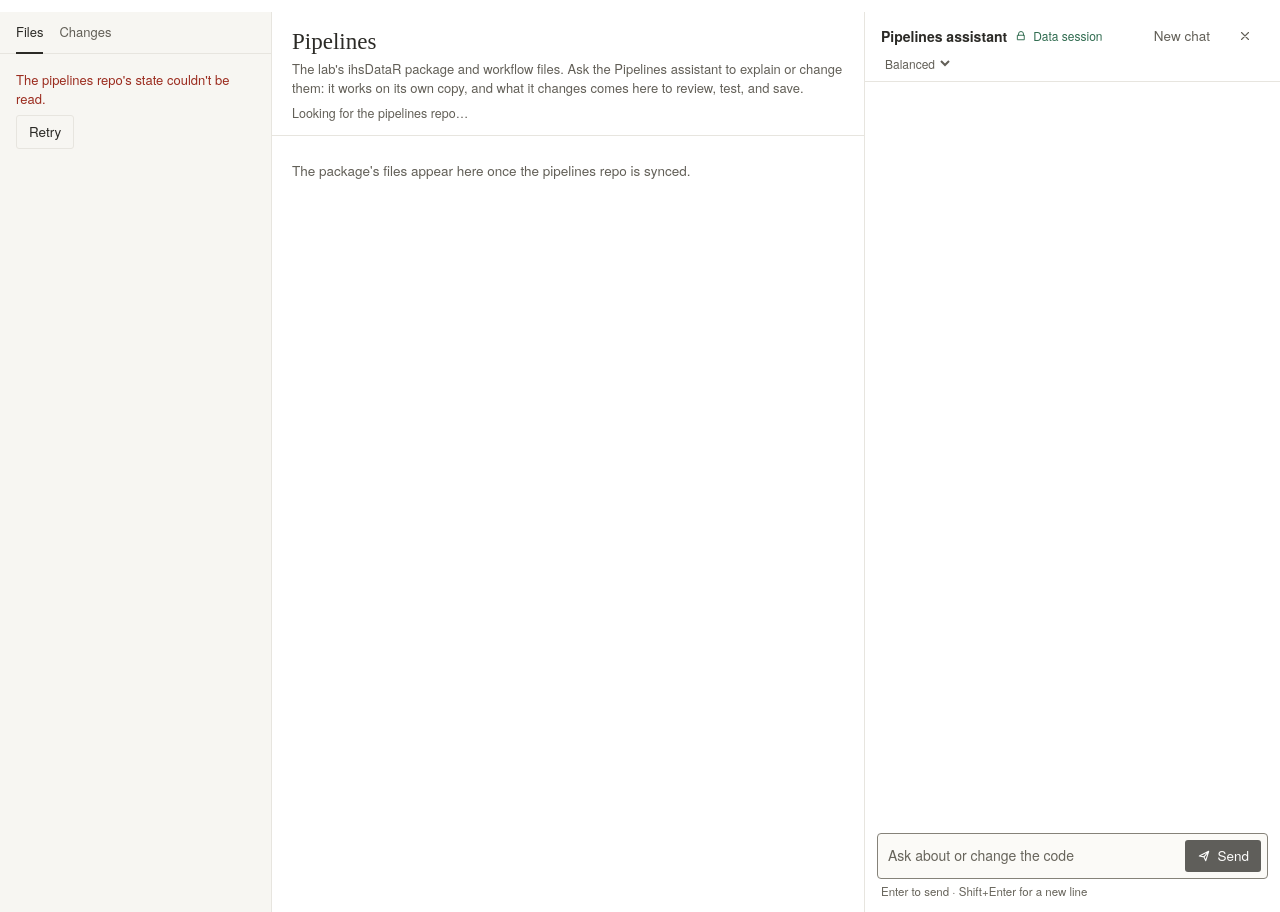
Scenario: says when the repo's state couldn't be read, with Retry, in the files and the changes
This screenshot has width=1280, height=912.
Expected: the text "The pipelines repo's state couldn't be read." is shown, [16,70,255,108]
Click the tab "Changes" at point(86, 33), box [60,12,112,54]
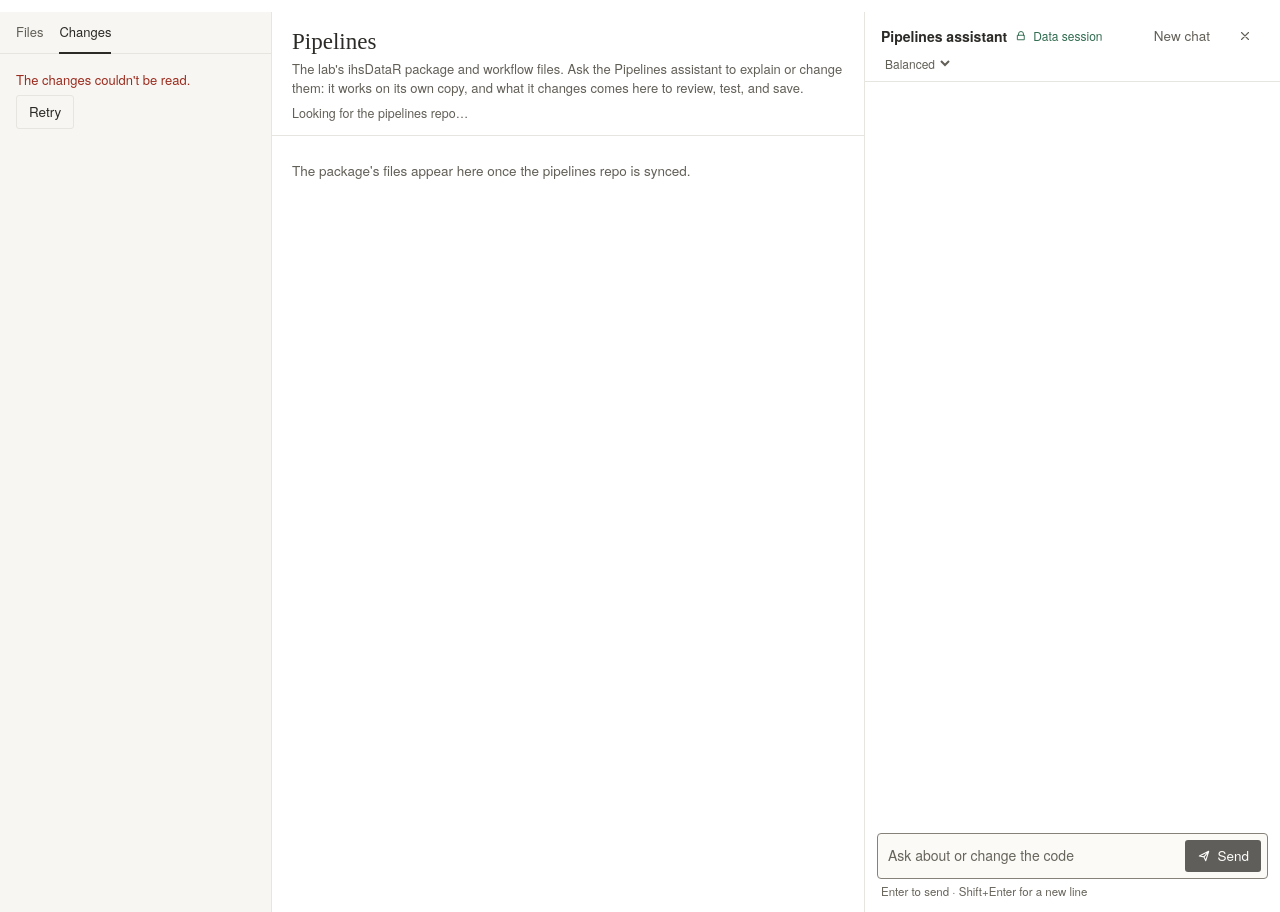
Now the text "The changes couldn't be read." is shown, box [16,70,190,89]
Click the button "Retry" at point(45, 112), box [16,95,74,129]
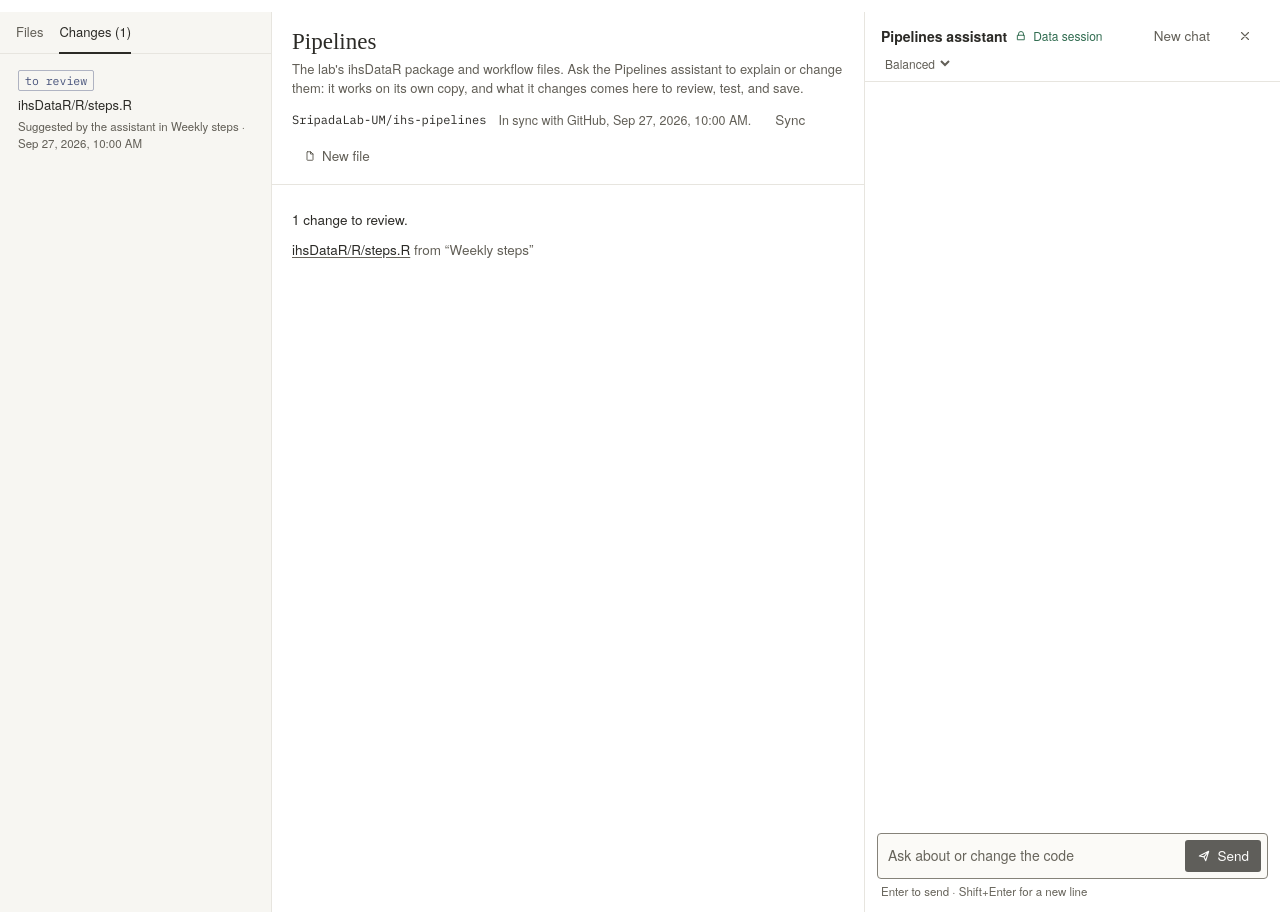
Now the text "The changes couldn't be read." is gone
